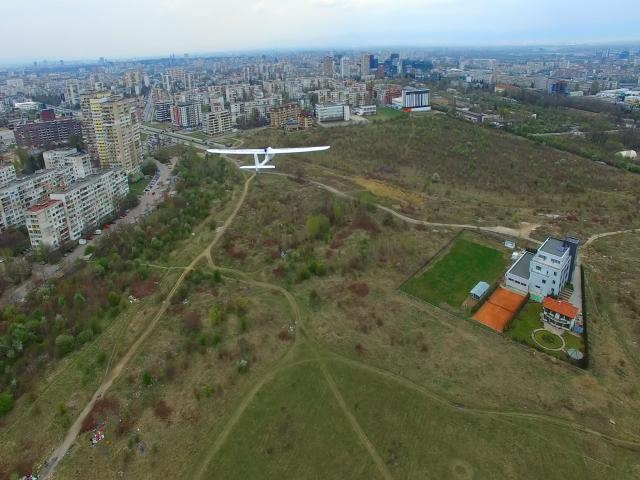plane: (204, 142, 329, 170)
